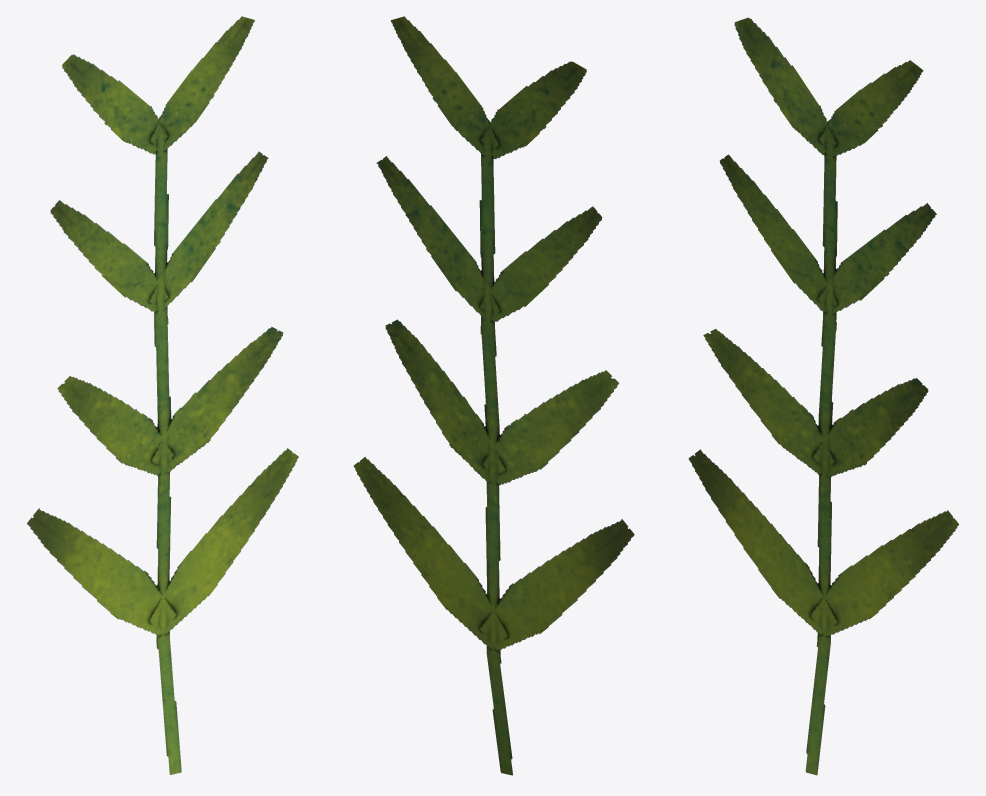
The model's file is Terrain_Grass_02.fbx.
3 renders of one model, left to right at view 1: azimuth 30°, elevation 25°; view 2: azimuth 150°, elevation 25°; view 3: azimuth 330°, elevation 25°, orthographic. The views are drawn at different scales.
Parts seen in each view (by area): view 1: Grass_02; view 2: Grass_02; view 3: Grass_02.
Part boxes in pixels (<box>): Grass_02: <box>27,16,298,774</box>; Grass_02: <box>353,16,634,775</box>; Grass_02: <box>688,17,958,775</box>.
Bounding box in the file's own units: 0.00393 × 0.00928 × 0.000508.
